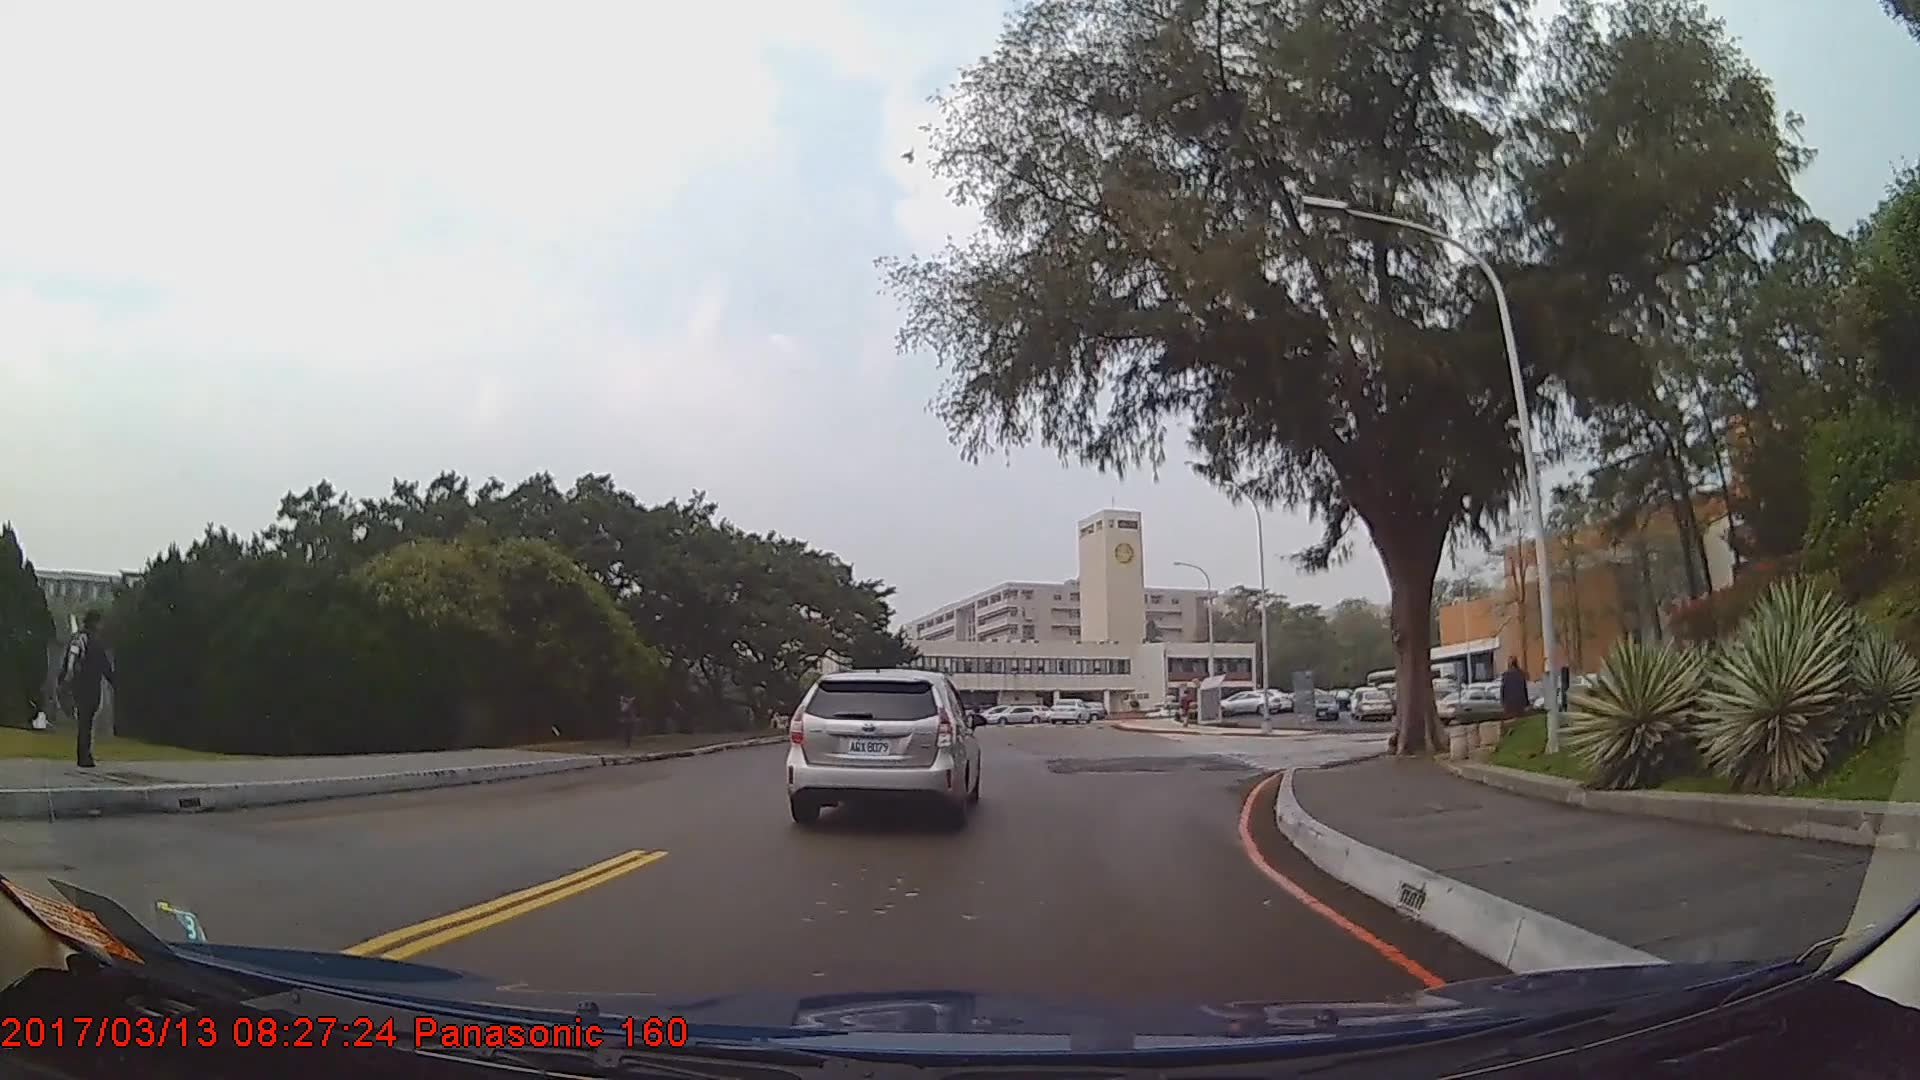pedestrian: (58, 607, 130, 770), (1498, 652, 1536, 761)
vehicle: (785, 664, 977, 826), (1434, 687, 1511, 725), (1217, 687, 1282, 715), (983, 701, 1045, 726), (1353, 687, 1392, 721), (1043, 699, 1091, 726), (1309, 689, 1338, 718)
